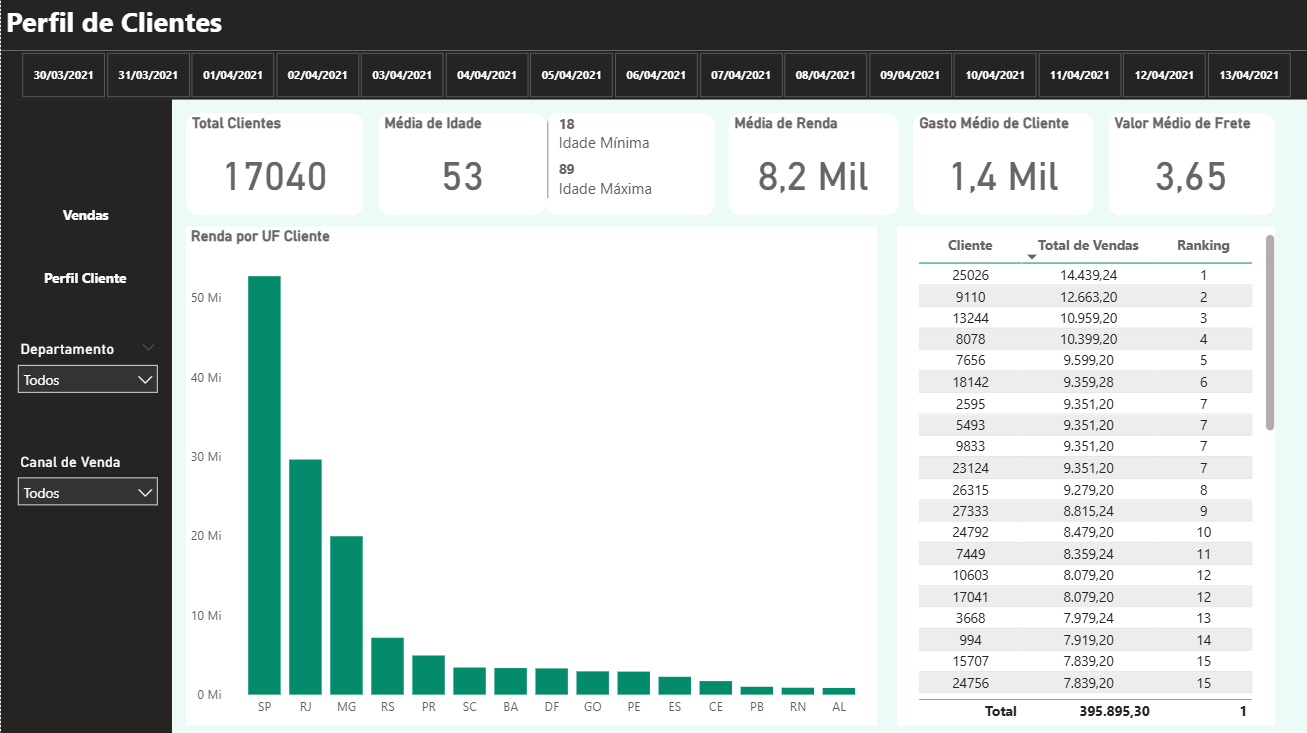

The page's visual inventory and layout, read from the dashboard file:
{"tool":"powerbi","page":{"name":"Cliente","canvas":[1280,720],"ordinal":1},"visuals":[{"type":"shape","box":[0,98.8,167.5,621.2],"z":0},{"type":"textbox","box":[0,0,1280.3,51.4],"z":1000},{"type":"slicer","fields":{"Values":["base compra.Data"]},"box":[0,51.4,1280.3,47.7],"z":2000},{"type":"slicer","fields":{"Values":["base compra.canalvenda"]},"box":[5.6,439.7,157.2,79.3],"z":3000},{"type":"slicer","fields":{"Values":["base compra.Nome_Departamento"]},"box":[5.6,329.7,157.2,79.3],"z":4000},{"type":"actionButton","box":[4.2,253.2,157.2,40.3],"z":5000},{"type":"actionButton","box":[4.2,192,158.6,40.3],"z":6000},{"type":"card","title":"Total Clientes","fields":{"Values":["Base cliente.clientes_unicos"]},"box":[181,112.5,173.6,100.3],"z":7000},{"type":"card","title":"Média de Idade","fields":{"Values":["Avg(Base cliente.idade)"]},"box":[369.1,112.5,163.9,100.3],"z":8000},{"type":"multiRowCard","fields":{"Values":["Min(Base cliente.idade)","Max(Base cliente.idade)1"]},"box":[533.2,112.5,165.1,100.3],"z":9000},{"type":"card","title":"Média de Renda","fields":{"Values":["Avg(Base cliente.renda)"]},"box":[712.2,112.5,166.3,100.3],"z":10000},{"type":"card","title":"Gasto Médio de Cliente","fields":{"Values":["base compra.Gasto_Medio_cliente"]},"box":[892.9,112.5,176.1,100.3],"z":11000},{"type":"card","title":"Valor Médio de Frete","fields":{"Values":["Avg(base compra.valorFrete)"]},"box":[1083.4,112.5,162.6,100.3],"z":12000},{"type":"columnChart","title":"Renda por UF Cliente","fields":{"Y":["Sum(Base cliente.renda)"],"Category":["Base cliente.uf_nascimento"]},"box":[181,223.8,676.2,487.9],"z":13000},{"type":"tableEx","fields":{"Values":["Base cliente.id_cliente","Base cliente.vandas_totais","Base cliente.ranking_clientes"]},"box":[876.8,223.8,369.3,487.9],"z":14000}]}

Visuals, with their boxes on the page's 1280x720 design canvas (x1, y1, x2, y2). These are canvas units, not pixel positions in the 1307x733 screenshot, which may show the page scaled, cropped or inside an application window:
shape: (0, 99, 168, 720)
textbox: (0, 0, 1280, 51)
slicer - base compra.Data: (0, 51, 1280, 99)
slicer - base compra.canalvenda: (6, 440, 163, 519)
slicer - base compra.Nome_Departamento: (6, 330, 163, 409)
actionButton: (4, 253, 161, 294)
actionButton: (4, 192, 163, 232)
"Total Clientes" card: (181, 112, 355, 213)
"Média de Idade" card: (369, 112, 533, 213)
multiRowCard - Min(Base cliente.idade) x Max(Base cliente.idade)1: (533, 112, 698, 213)
"Média de Renda" card: (712, 112, 878, 213)
"Gasto Médio de Cliente" card: (893, 112, 1069, 213)
"Valor Médio de Frete" card: (1083, 112, 1246, 213)
"Renda por UF Cliente" columnChart: (181, 224, 857, 712)
tableEx - Base cliente.id_cliente x Base cliente.vandas_totais: (877, 224, 1246, 712)
